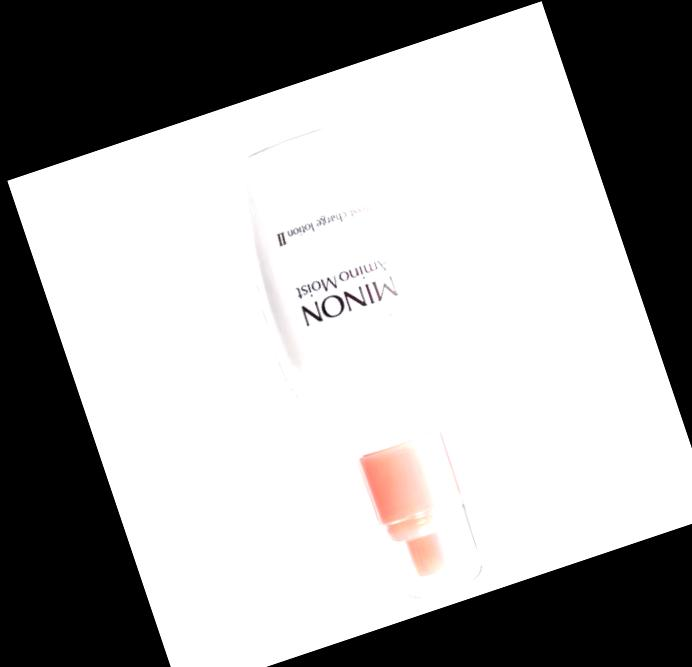cosmetic: (209, 105, 533, 625)
